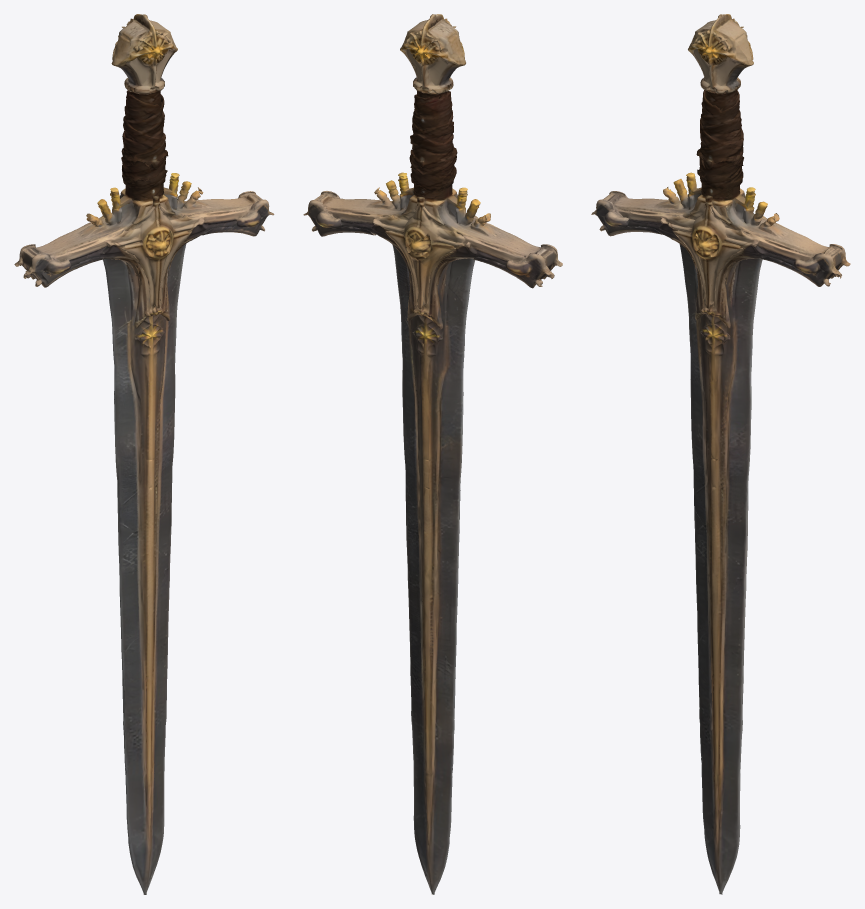
Rendered from sword-r7.glb.
3 renders of one model, left to right at view 1: azimuth 30°, elevation 25°; view 2: azimuth 150°, elevation 25°; view 3: azimuth 330°, elevation 25°, orthographic.
Visible parts, largest first — view 1: tripo_node_fda90871-959d-4c8f-8abb-c4c3f06e8c89; view 2: tripo_node_fda90871-959d-4c8f-8abb-c4c3f06e8c89; view 3: tripo_node_fda90871-959d-4c8f-8abb-c4c3f06e8c89.
Boxes of the visible parts, x1,y1,x2,y2 form: tripo_node_fda90871-959d-4c8f-8abb-c4c3f06e8c89: (14,14,274,894); tripo_node_fda90871-959d-4c8f-8abb-c4c3f06e8c89: (303,14,562,894); tripo_node_fda90871-959d-4c8f-8abb-c4c3f06e8c89: (591,14,850,894).
Size of the model in its own units: 0.289 by 0.9836 by 0.0773.
1 material, 1 textured.
